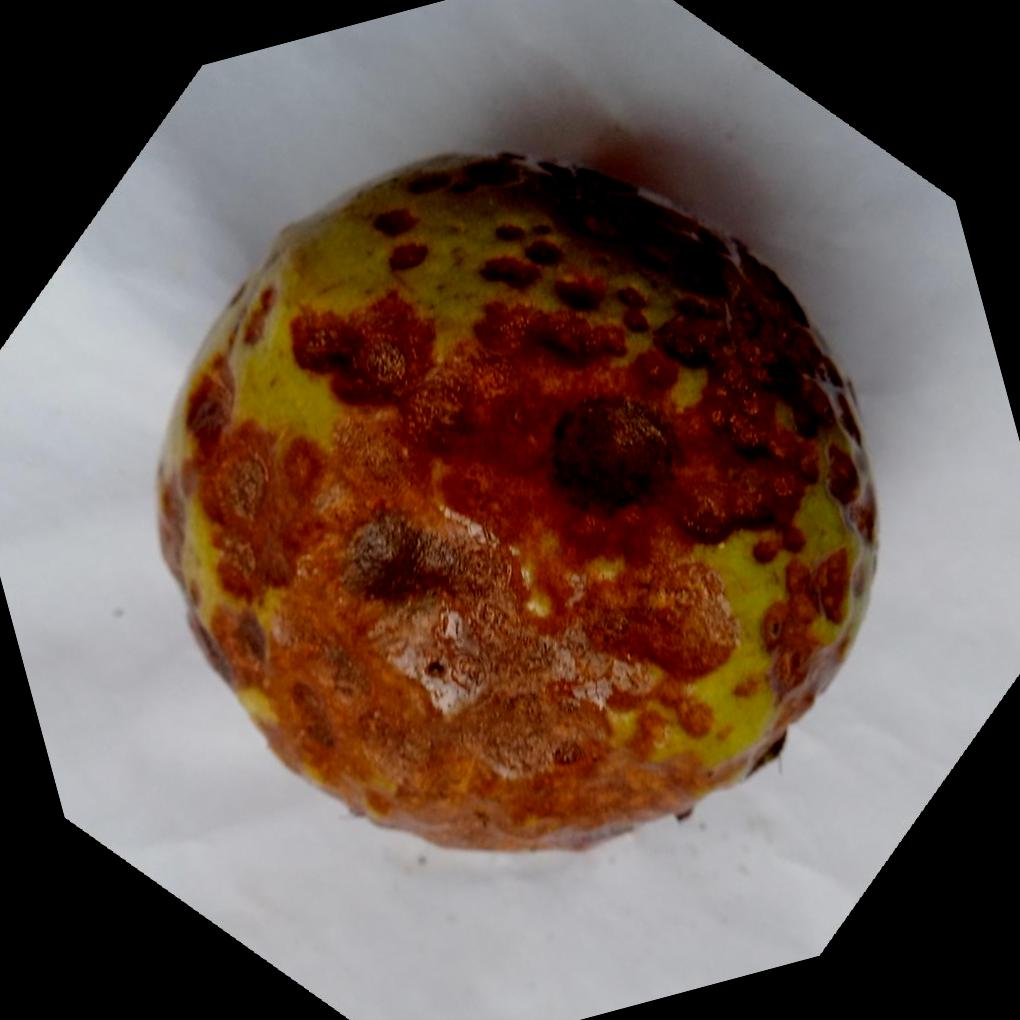FreshOrange: (154, 151, 881, 859)
